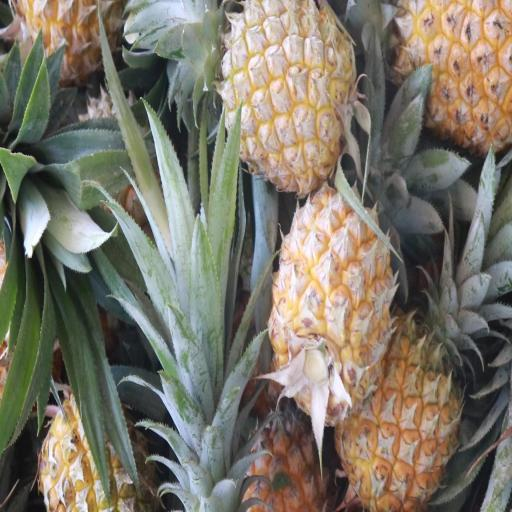------------------------------: (36, 394, 160, 512)
Pineapple - v8 v1: (272, 191, 390, 422), (222, 0, 357, 192), (341, 312, 458, 512), (375, 0, 512, 152), (222, 400, 329, 512)
